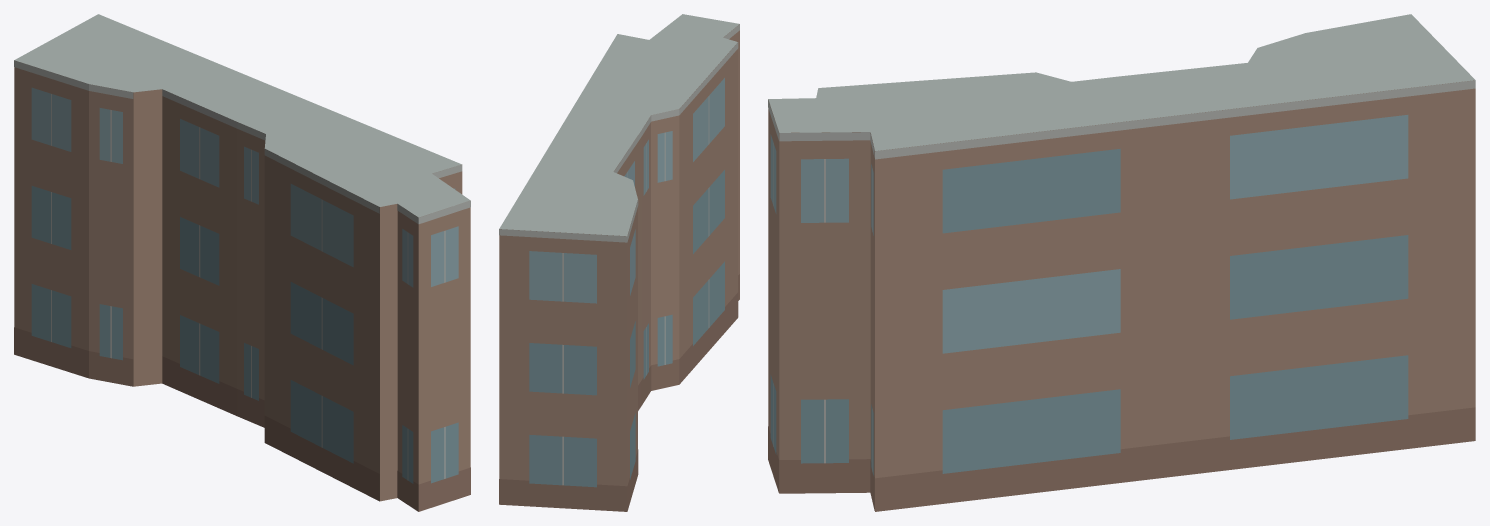
File: survey-upis-32756845.glb
The picture shows the model from 3 angles, left to right: view 1: azimuth 30°, elevation 25°; view 2: azimuth 150°, elevation 25°; view 3: azimuth 270°, elevation 25°; orthographic projection. The views are drawn at different scales.
Visible parts, largest first — view 1: survey-upis-32756845.tmp; view 2: survey-upis-32756845.tmp; view 3: survey-upis-32756845.tmp.
Part boxes in pixels (<box>): survey-upis-32756845.tmp: <box>14,14,470,511</box>; survey-upis-32756845.tmp: <box>499,14,739,511</box>; survey-upis-32756845.tmp: <box>768,14,1475,511</box>.
Size of the model in its own units: 8.57 by 10.5 by 18.67.
